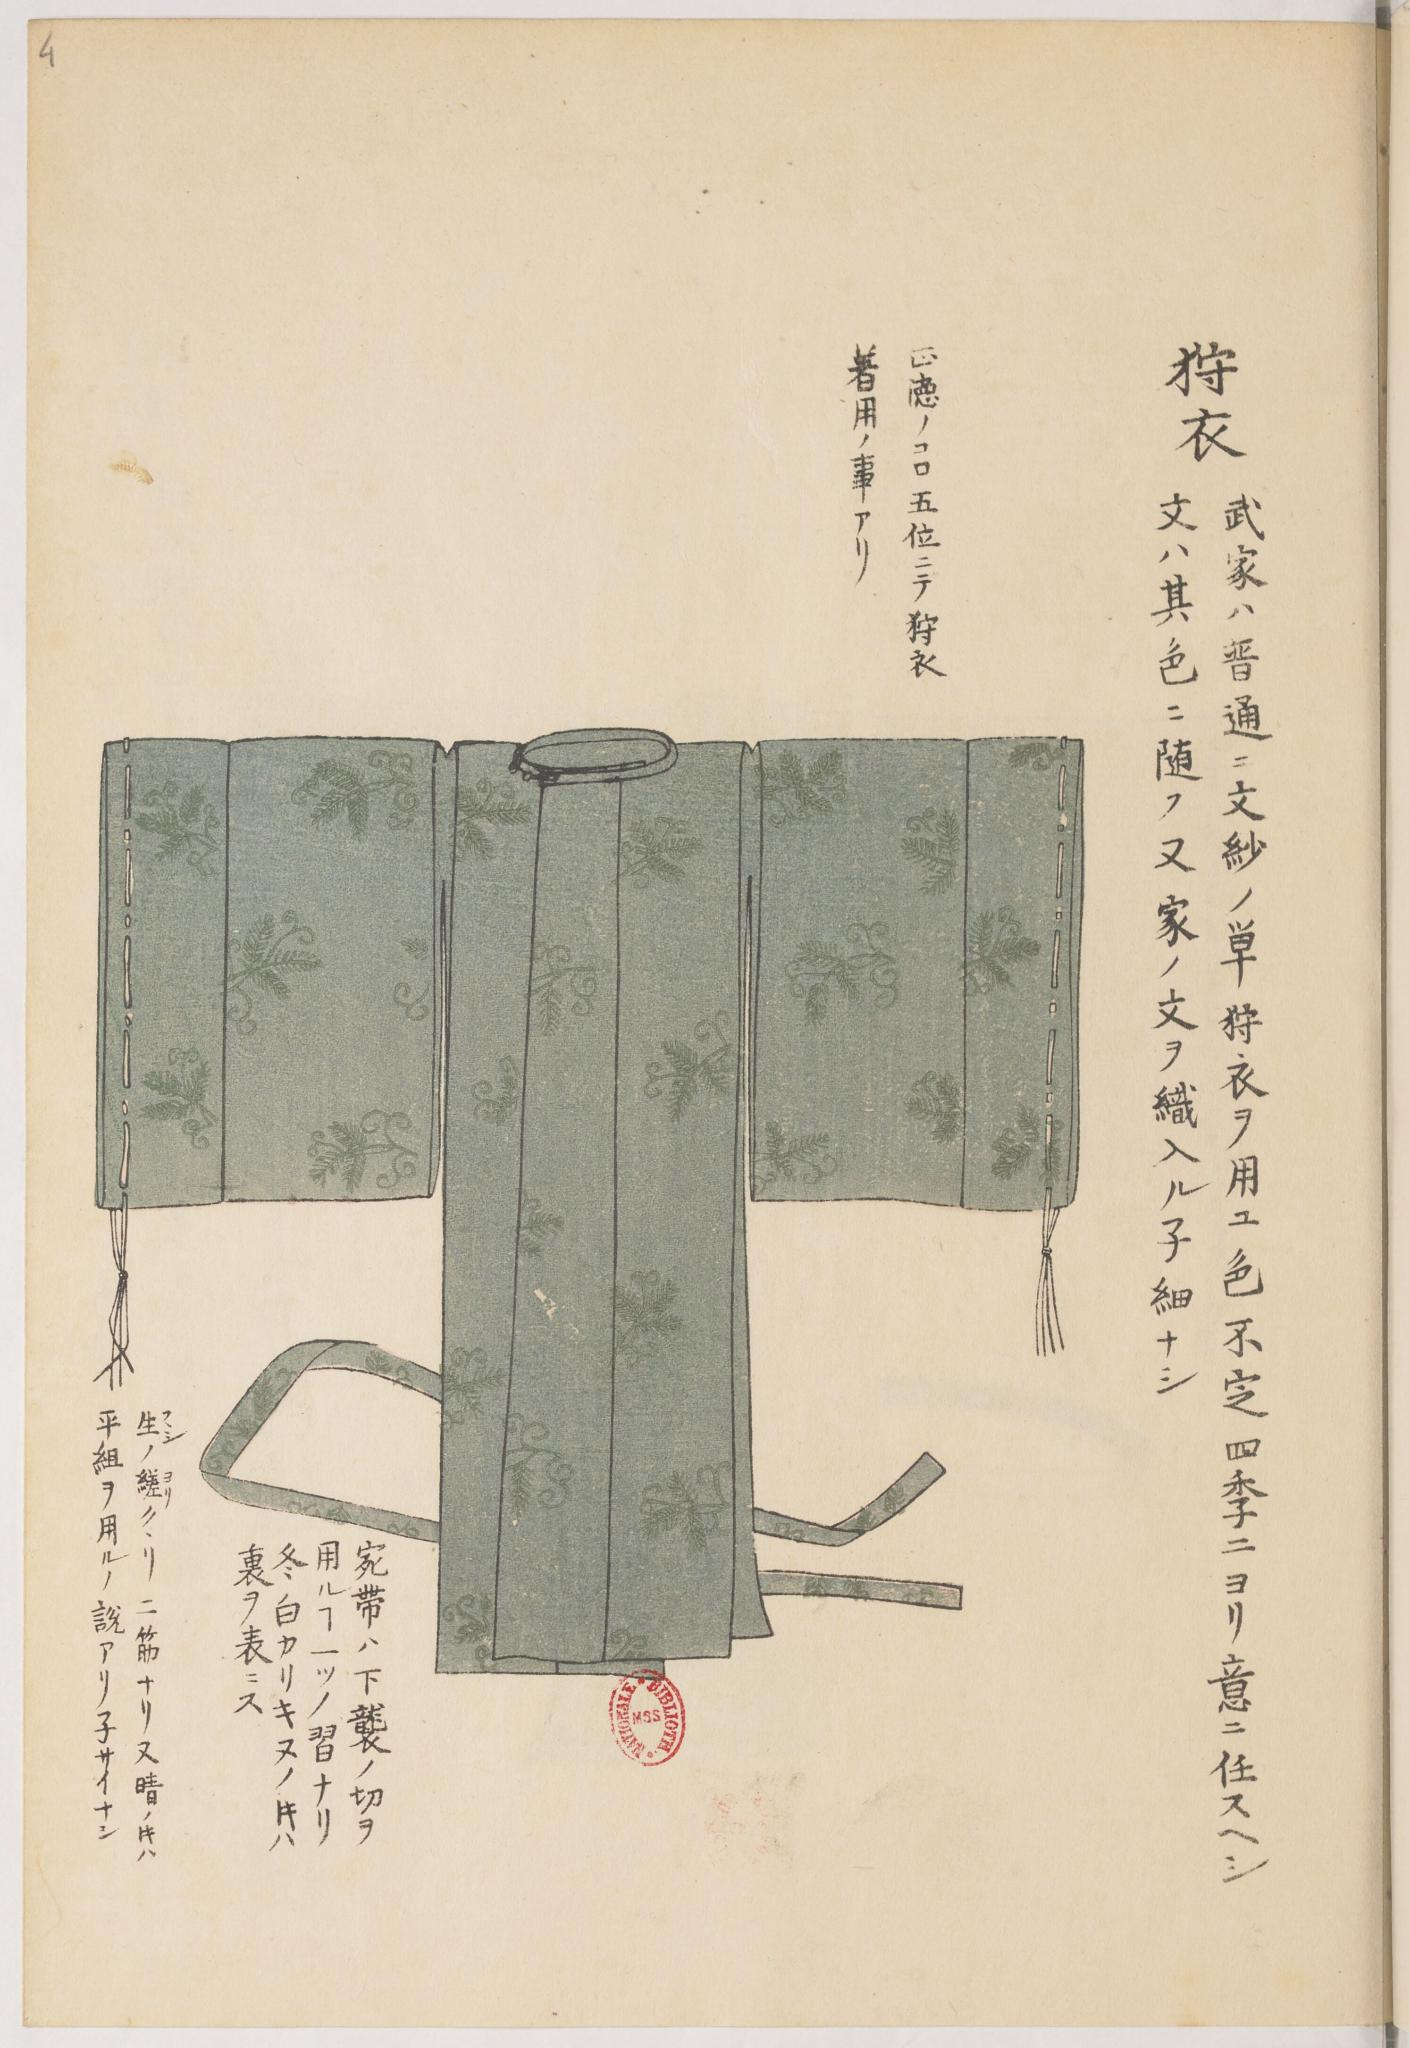MainZone-Character: (134, 1402, 187, 1444), (135, 1464, 181, 1506)
MainZone-Ruby: (159, 1405, 185, 1446), (163, 1466, 177, 1502)
